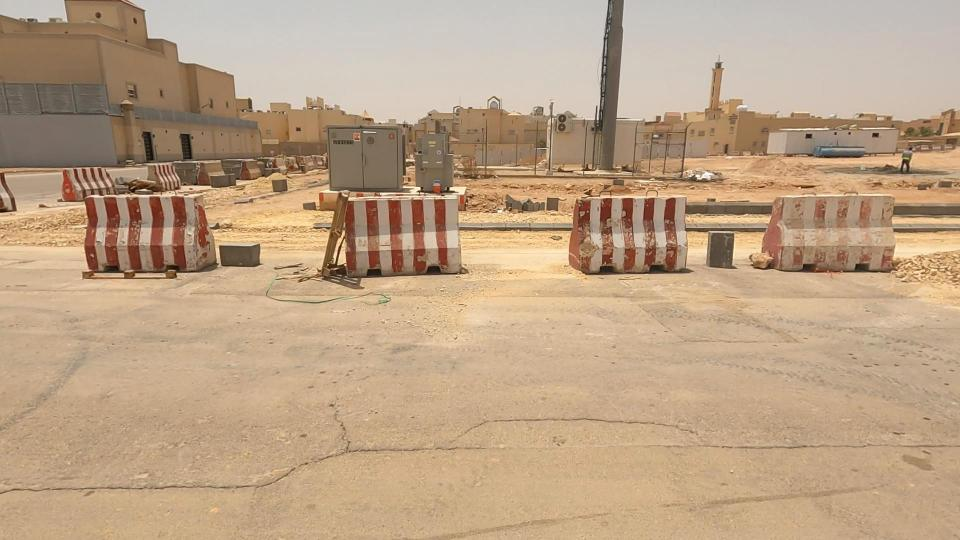CONSTRUCTION_ROAD: (0, 117, 694, 360), (333, 125, 960, 321), (0, 122, 419, 217)
GARBAGE: (249, 160, 419, 335)
